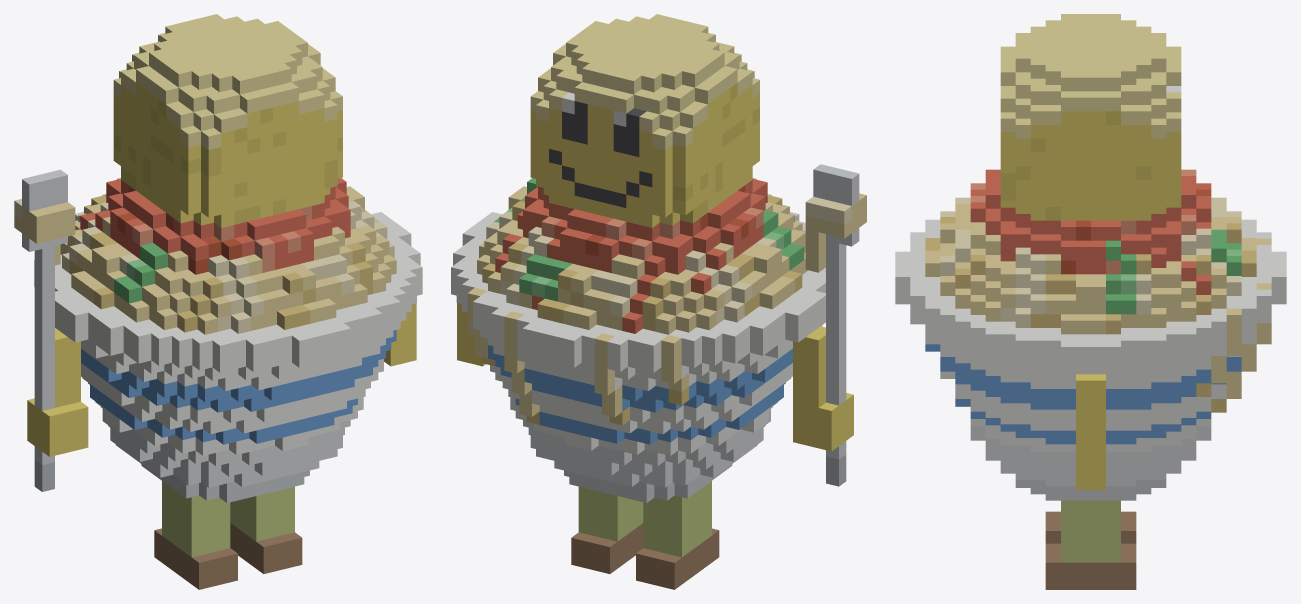
File: SpaghettiNoobetti.glb
The picture shows the model from 3 angles, left to right: view 1: azimuth 30°, elevation 25°; view 2: azimuth 150°, elevation 25°; view 3: azimuth 270°, elevation 25°; orthographic projection.
Parts seen in each view (by area): view 1: geometry_0; view 2: geometry_0; view 3: geometry_0.
Part boxes in pixels (<box>): geometry_0: <box>14,14,422,589</box>; geometry_0: <box>451,14,866,589</box>; geometry_0: <box>895,14,1286,589</box>.
Size of the model in its own units: 0.75 by 0.95 by 0.65.
